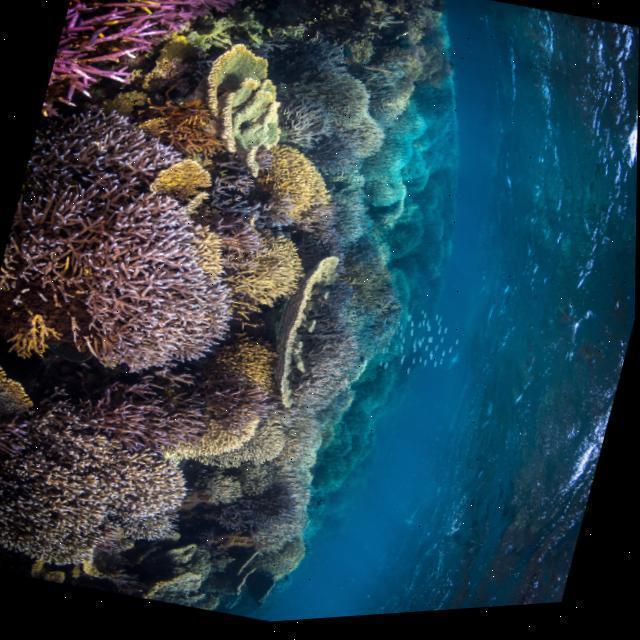Healthy Coral: (0, 376, 212, 604), (0, 94, 181, 349), (66, 188, 251, 399), (52, 333, 275, 488), (194, 41, 299, 172), (264, 254, 345, 421), (42, 0, 201, 76), (251, 141, 340, 244), (223, 228, 308, 329), (139, 148, 231, 219), (150, 94, 224, 156), (0, 307, 69, 371), (254, 532, 311, 593), (0, 361, 28, 417)
